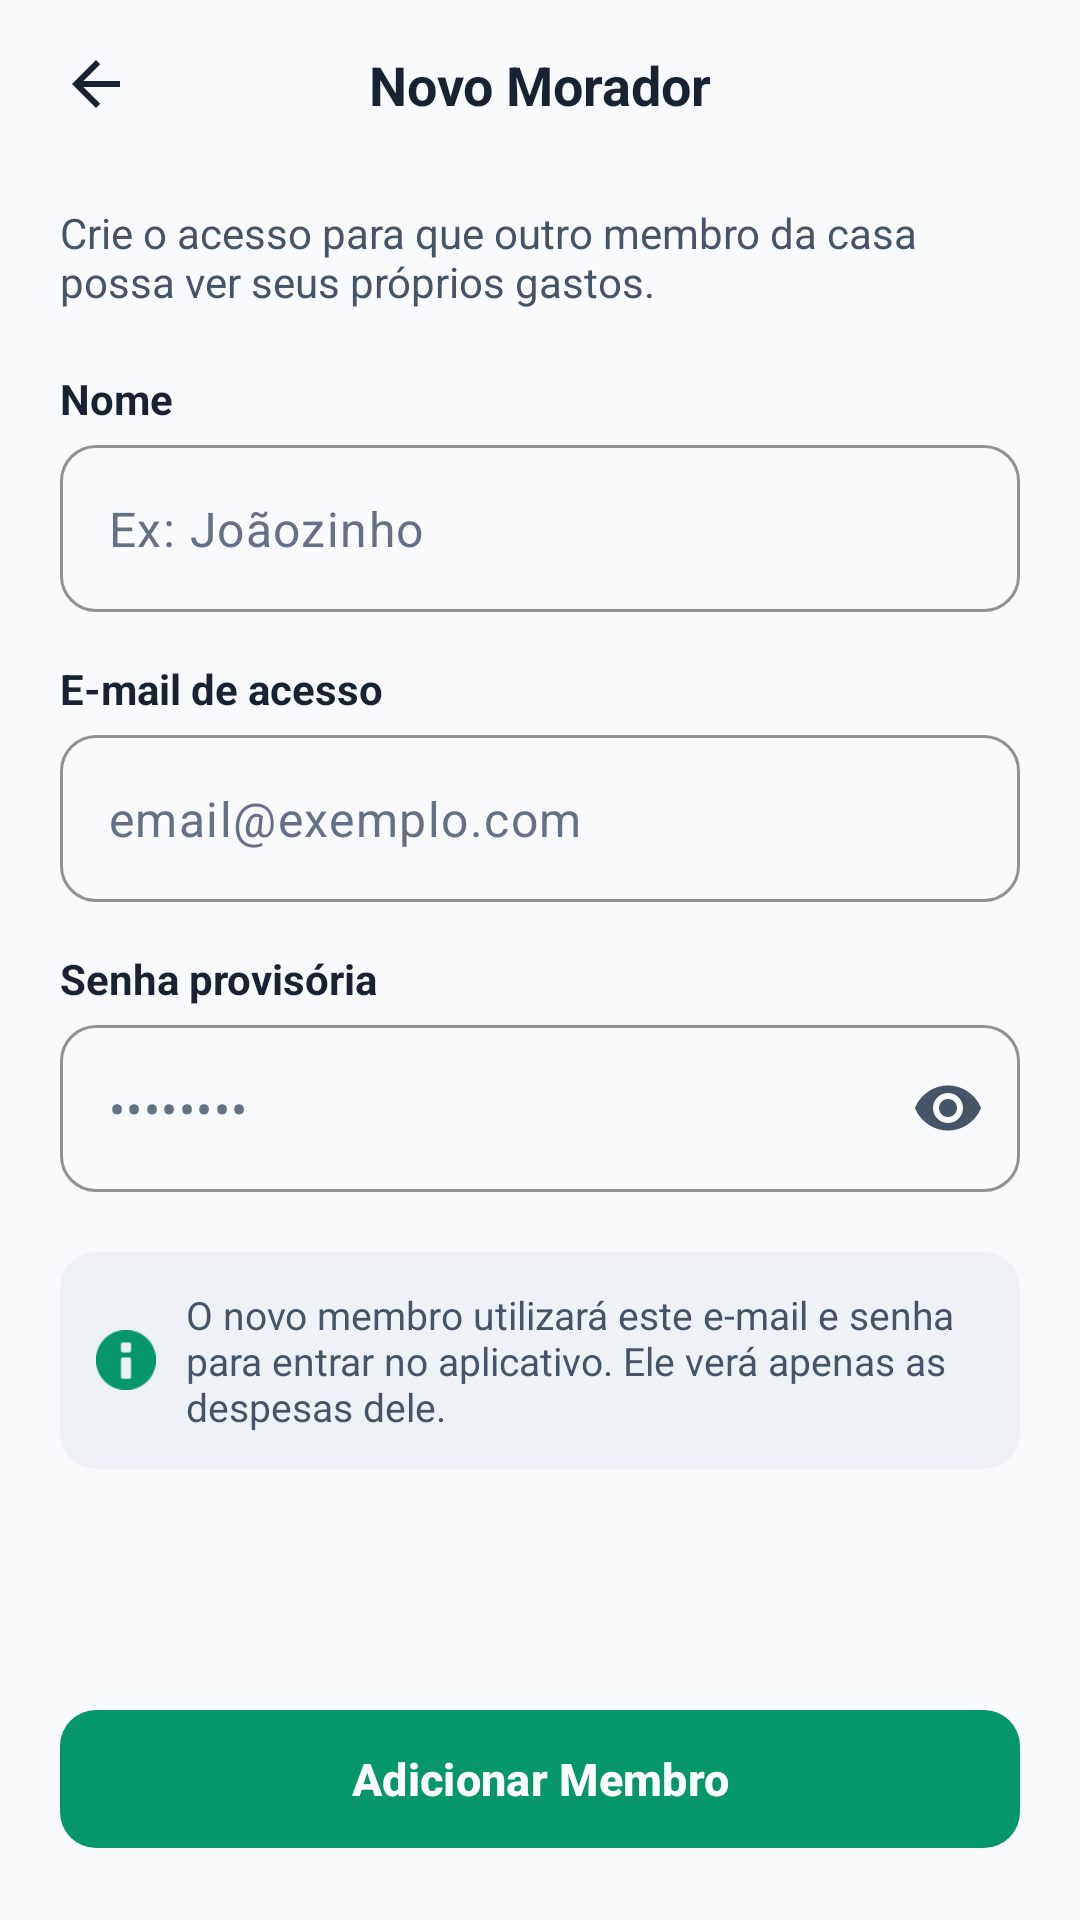

Icons on this 1080px×1920px Android screen, each with its box as (x1, y1, x2, y2):
info: (96, 1330, 156, 1390)
Voltar: (72, 60, 120, 108)
